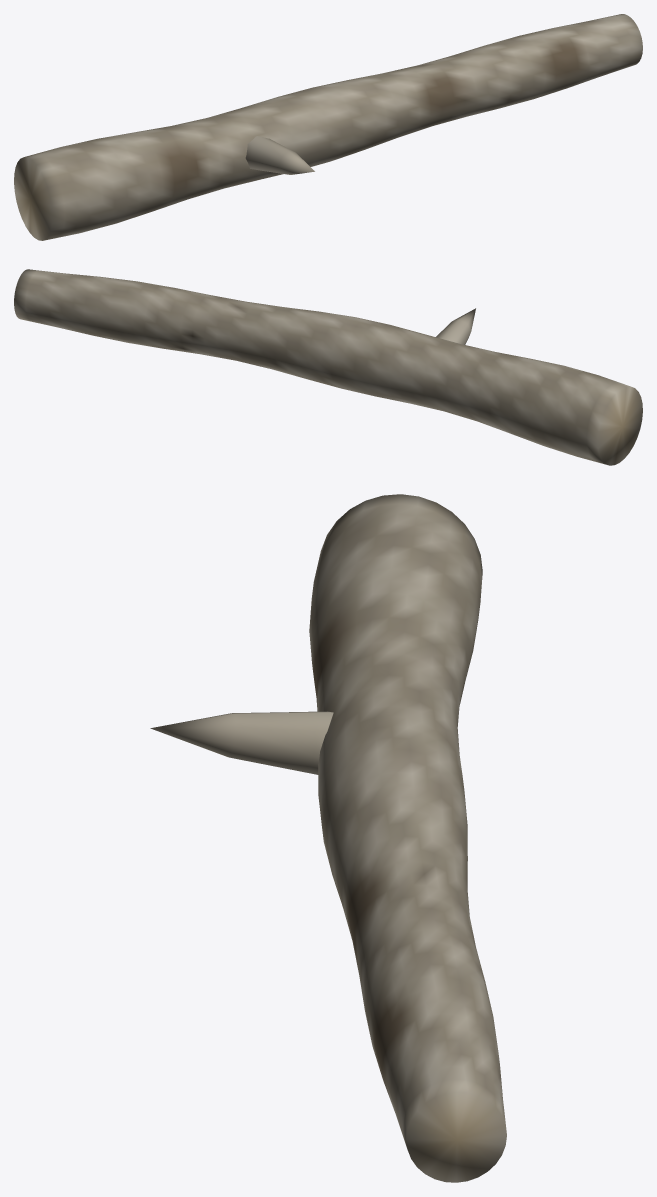
Rendered from DriftLog.fbx.
3 renders of one model, top to bottom at view 1: azimuth 30°, elevation 25°; view 2: azimuth 150°, elevation 25°; view 3: azimuth 270°, elevation 25°, orthographic. The views are drawn at different scales.
Parts seen in each view (by area): view 1: DriftLog; view 2: DriftLog; view 3: DriftLog.
Part boxes in pixels (x1,y1,x2,y2): DriftLog: (14, 14, 642, 240); DriftLog: (14, 269, 642, 465); DriftLog: (150, 494, 506, 1182).
Size of the model in its own units: 9.08 by 1.14 by 2.39.
